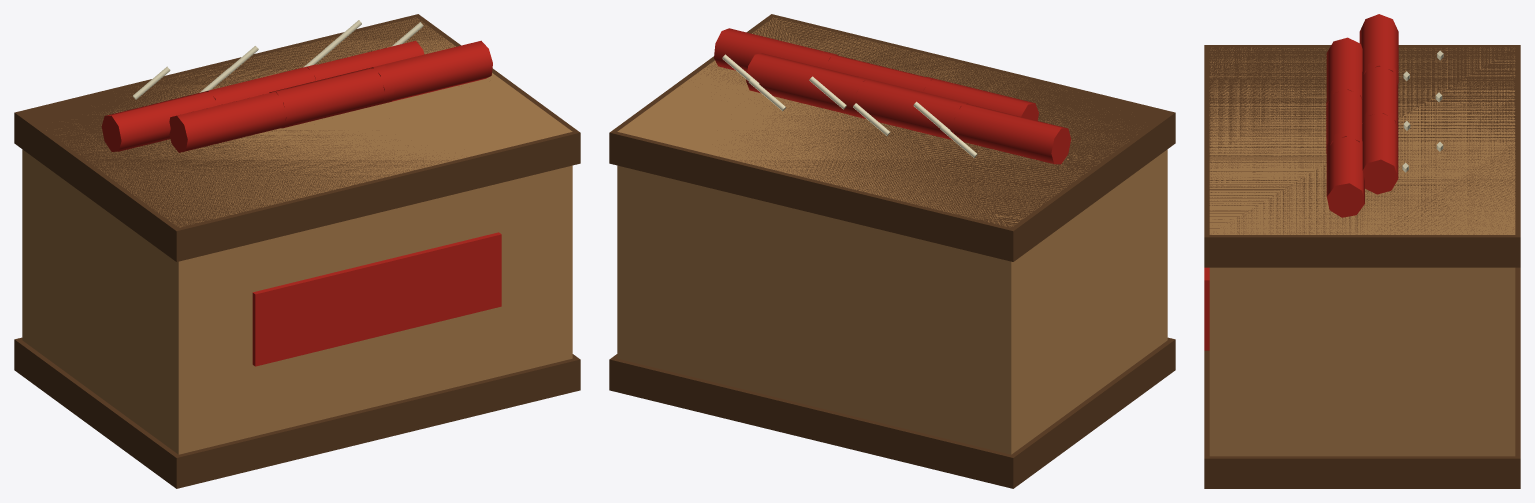
Rendered from dynamite_crate.glb.
3 views of the same model, side by side, from view 1: azimuth 30°, elevation 25°; view 2: azimuth 150°, elevation 25°; view 3: azimuth 270°, elevation 25° (orthographic). The views are drawn at different scales.
Visible parts, largest first — view 1: dynamite_crate; view 2: dynamite_crate; view 3: dynamite_crate.
Part boxes in pixels (<box>): dynamite_crate: <box>14,14,580,488</box>; dynamite_crate: <box>609,14,1175,488</box>; dynamite_crate: <box>1204,14,1520,488</box>.
Size of the model in its own units: 0.8266 by 0.6 by 0.5746.
